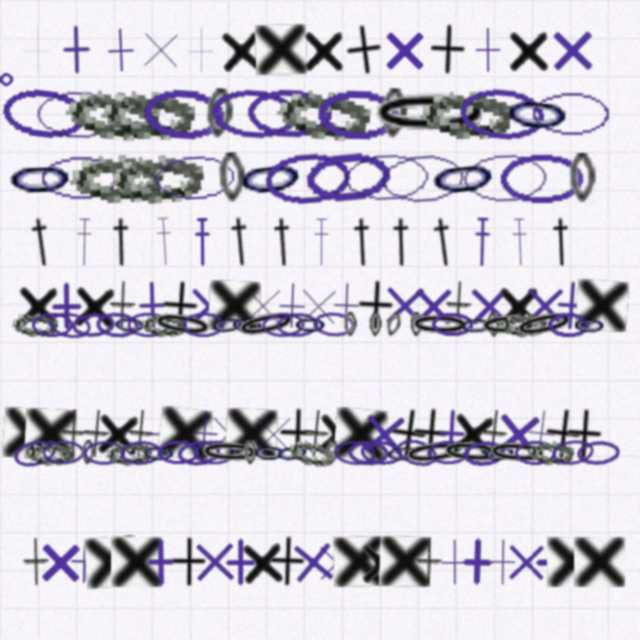chain: (368, 89, 493, 139), (64, 85, 161, 143), (275, 85, 372, 143), (0, 84, 90, 144), (109, 150, 205, 206), (457, 85, 546, 142), (303, 149, 392, 206), (263, 150, 353, 206), (378, 150, 468, 206), (69, 151, 164, 204), (209, 86, 298, 142), (101, 88, 195, 140), (141, 86, 228, 141), (151, 151, 239, 205), (342, 151, 430, 204), (420, 89, 513, 139), (461, 151, 548, 204), (246, 87, 332, 140), (34, 88, 120, 140), (316, 88, 401, 140), (499, 153, 585, 203), (233, 149, 308, 206), (426, 149, 501, 206), (529, 89, 613, 139), (38, 153, 122, 203), (501, 86, 574, 141), (5, 152, 76, 204), (234, 306, 299, 343), (512, 306, 577, 343), (150, 308, 215, 342), (402, 437, 466, 469), (440, 438, 503, 467), (478, 311, 541, 339), (486, 439, 549, 467), (393, 435, 441, 470), (199, 439, 261, 466), (409, 312, 471, 338), (11, 436, 58, 470), (287, 437, 336, 469), (205, 88, 234, 139), (47, 309, 93, 341), (380, 88, 408, 139), (218, 152, 246, 203), (550, 437, 596, 468), (500, 310, 548, 339), (569, 153, 596, 203), (105, 439, 153, 467), (176, 438, 221, 467), (359, 439, 404, 467), (71, 311, 115, 339), (333, 439, 377, 467), (576, 439, 620, 467), (462, 439, 505, 467), (27, 440, 73, 466), (95, 311, 139, 338), (312, 311, 355, 338), (347, 439, 390, 466), (12, 312, 58, 337), (141, 312, 187, 337), (528, 440, 574, 465), (261, 312, 305, 338), (119, 440, 163, 466), (83, 440, 126, 466), (276, 312, 318, 338), (31, 312, 74, 337), (182, 312, 225, 337), (42, 440, 85, 465), (157, 440, 200, 465), (193, 440, 236, 465), (427, 440, 470, 465), (514, 440, 557, 465), (209, 310, 246, 339), (274, 438, 311, 467), (127, 312, 169, 337), (431, 312, 473, 337), (547, 312, 589, 337), (229, 311, 266, 339), (384, 439, 421, 467), (481, 439, 518, 467), (112, 311, 148, 338), (141, 440, 177, 466), (459, 312, 494, 338), (572, 312, 607, 338), (293, 312, 328, 337), (252, 440, 287, 465), (384, 311, 403, 338), (324, 440, 340, 466), (486, 312, 501, 338), (81, 440, 95, 465), (344, 312, 357, 337), (369, 312, 382, 337), (410, 312, 423, 337), (244, 440, 257, 465)
half_double: (25, 216, 58, 268), (427, 216, 460, 268), (225, 216, 256, 267), (268, 217, 298, 267), (107, 217, 136, 267), (348, 217, 377, 267), (387, 217, 416, 267), (547, 217, 576, 267), (153, 216, 175, 267), (74, 217, 94, 267), (472, 217, 492, 267), (510, 217, 530, 267), (193, 217, 212, 267), (312, 217, 331, 267)
noise: (0, 72, 14, 87)
single: (157, 406, 213, 461), (514, 406, 569, 461), (333, 407, 388, 461), (357, 407, 411, 461), (491, 407, 545, 461), (84, 535, 138, 589), (286, 535, 340, 589), (575, 279, 629, 332), (2, 407, 56, 460), (545, 279, 598, 332), (178, 407, 231, 460), (425, 407, 478, 460), (448, 406, 499, 461), (208, 280, 261, 332), (24, 408, 77, 460), (225, 408, 278, 460), (94, 24, 146, 76), (292, 280, 344, 332), (255, 24, 307, 75), (333, 536, 385, 587), (379, 536, 431, 587), (314, 407, 364, 460), (11, 24, 62, 75), (51, 24, 102, 75), (135, 24, 186, 75), (127, 280, 178, 331), (237, 280, 288, 331), (266, 280, 317, 331), (321, 280, 372, 331), (379, 280, 430, 331), (519, 280, 570, 331), (136, 408, 187, 459), (203, 408, 254, 459), (59, 536, 110, 587), (189, 536, 240, 587), (451, 536, 502, 587), (524, 536, 575, 587), (94, 407, 143, 460), (111, 537, 162, 587), (547, 537, 598, 587), (574, 537, 625, 587), (175, 25, 225, 75), (379, 25, 429, 75), (463, 25, 513, 75), (547, 25, 597, 75), (41, 281, 91, 331), (184, 281, 234, 331), (408, 281, 458, 331), (464, 281, 514, 331), (248, 409, 298, 459), (35, 537, 85, 587), (136, 537, 186, 587), (215, 537, 265, 587), (311, 537, 361, 587), (429, 537, 479, 587), (478, 537, 528, 587), (501, 537, 551, 587), (218, 24, 266, 76), (71, 280, 119, 332), (239, 536, 287, 588), (15, 280, 62, 331), (386, 407, 430, 461), (342, 23, 385, 77), (541, 407, 584, 461), (301, 25, 347, 75), (506, 25, 552, 75), (496, 281, 542, 331), (359, 537, 405, 587), (409, 407, 451, 460), (159, 280, 200, 332), (563, 408, 604, 460), (427, 24, 467, 75), (355, 280, 395, 331), (277, 408, 316, 459), (267, 536, 306, 587), (169, 537, 207, 587), (301, 408, 332, 460), (479, 408, 510, 460), (82, 408, 112, 460), (126, 408, 156, 460), (109, 280, 137, 331), (445, 280, 473, 331), (60, 408, 88, 459), (23, 537, 50, 587), (416, 537, 443, 587)
